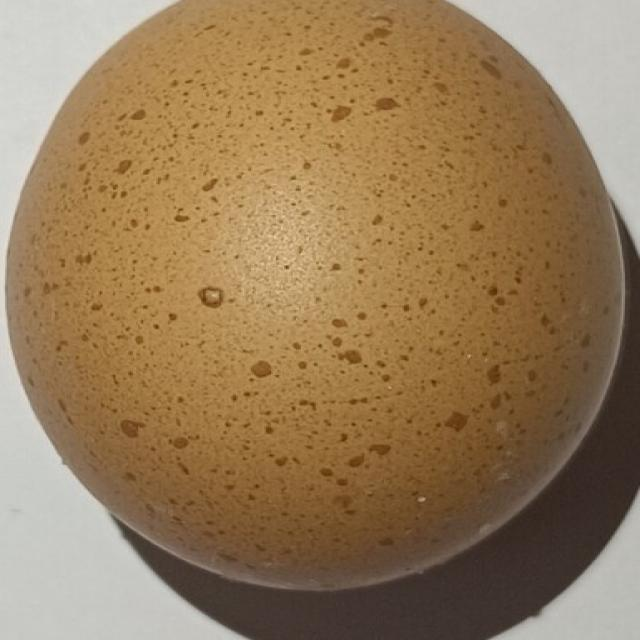unfresh: (0, 0, 633, 600)
